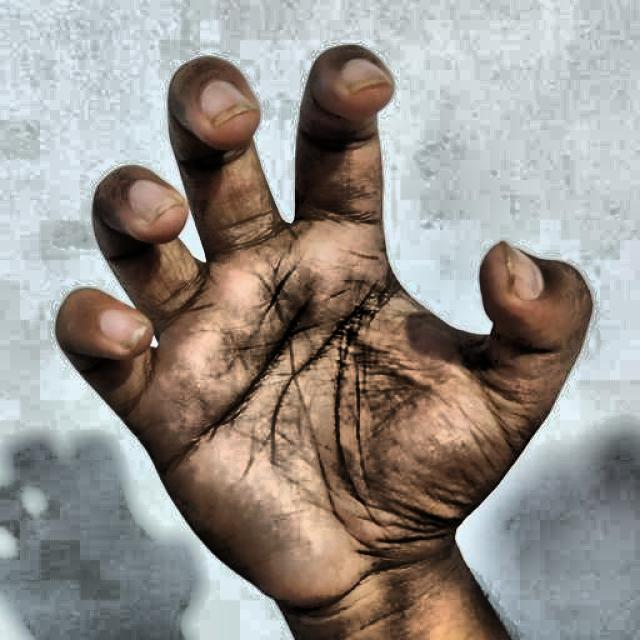Ja: (36, 27, 605, 638)
